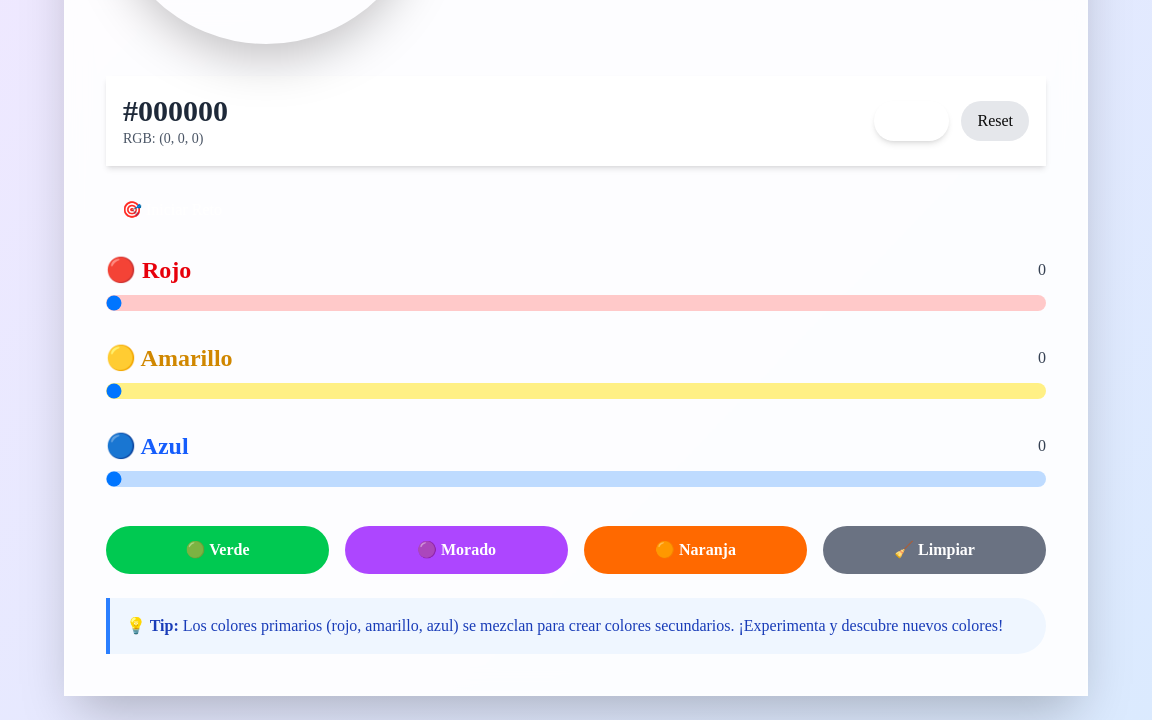
ColorMixer Component › debe aplicar preset naranja correctamente
(page scrolled)
What coordinates should you click on to do the following:
click the button with test id "preset-orange"
I would click on:
 (696, 550)
Its box is [584, 526, 807, 574].
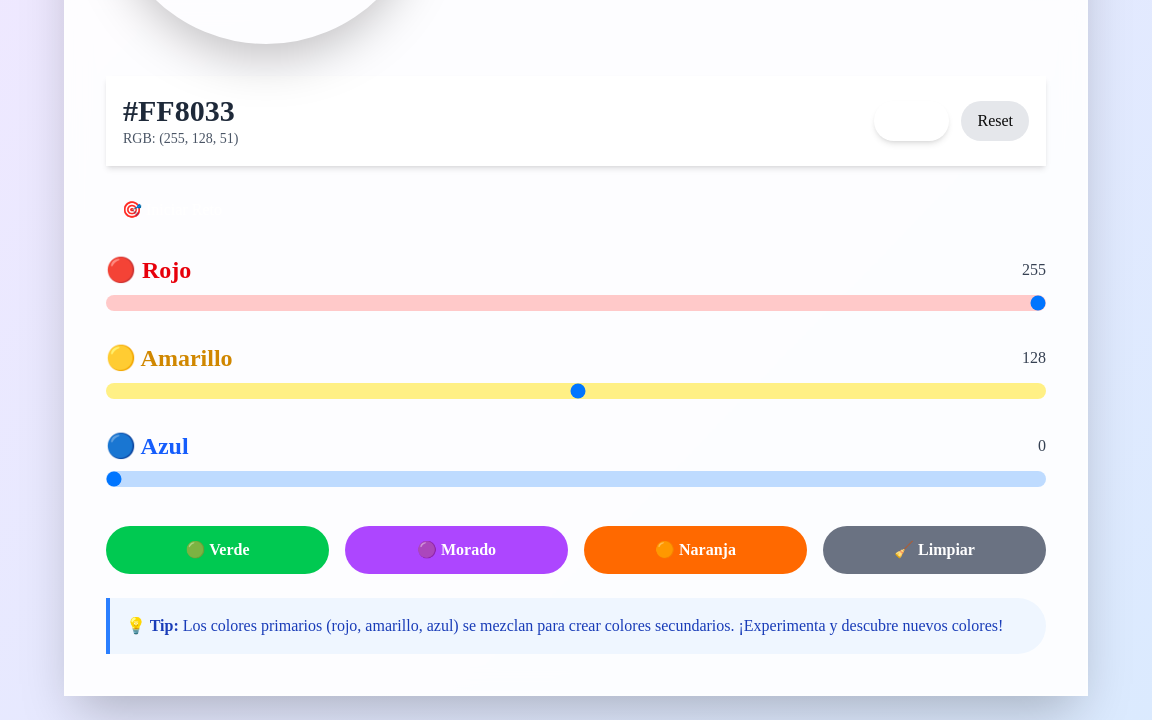
Expected: the slider with test id "blue-slider" holds "0", [106, 471, 1046, 487]
Expected: the slider with test id "red-slider" holds "255", [106, 295, 1046, 311]
Expected: the slider with test id "yellow-slider" holds "128", [106, 383, 1046, 399]
